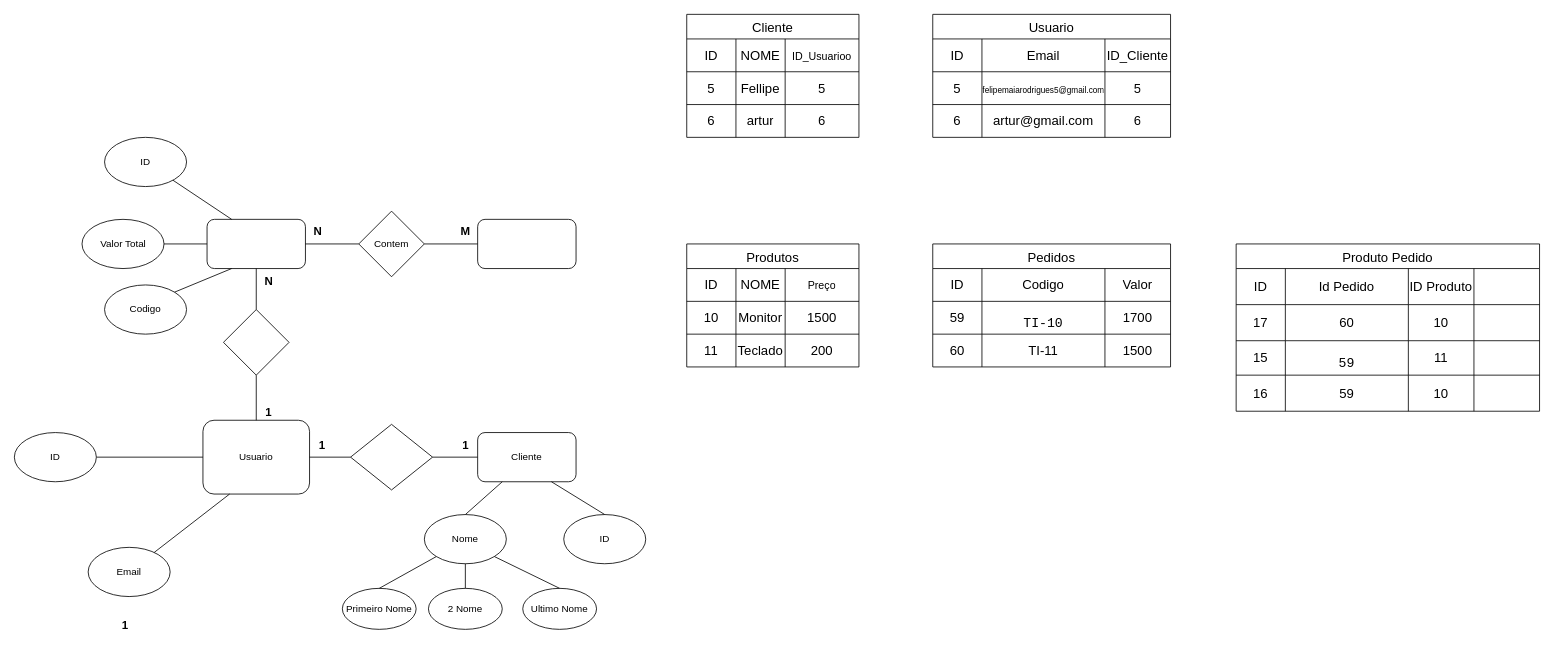
Some shapes in this 1554 by 652 pixel diagram are drawn without their labels. The centre of each missing label's shape, as x and y in pixels:
Cadastro: (x=391, y=457)
Pedido: (x=255, y=244)
Produto: (x=526, y=244)
Realiza: (x=256, y=342)
